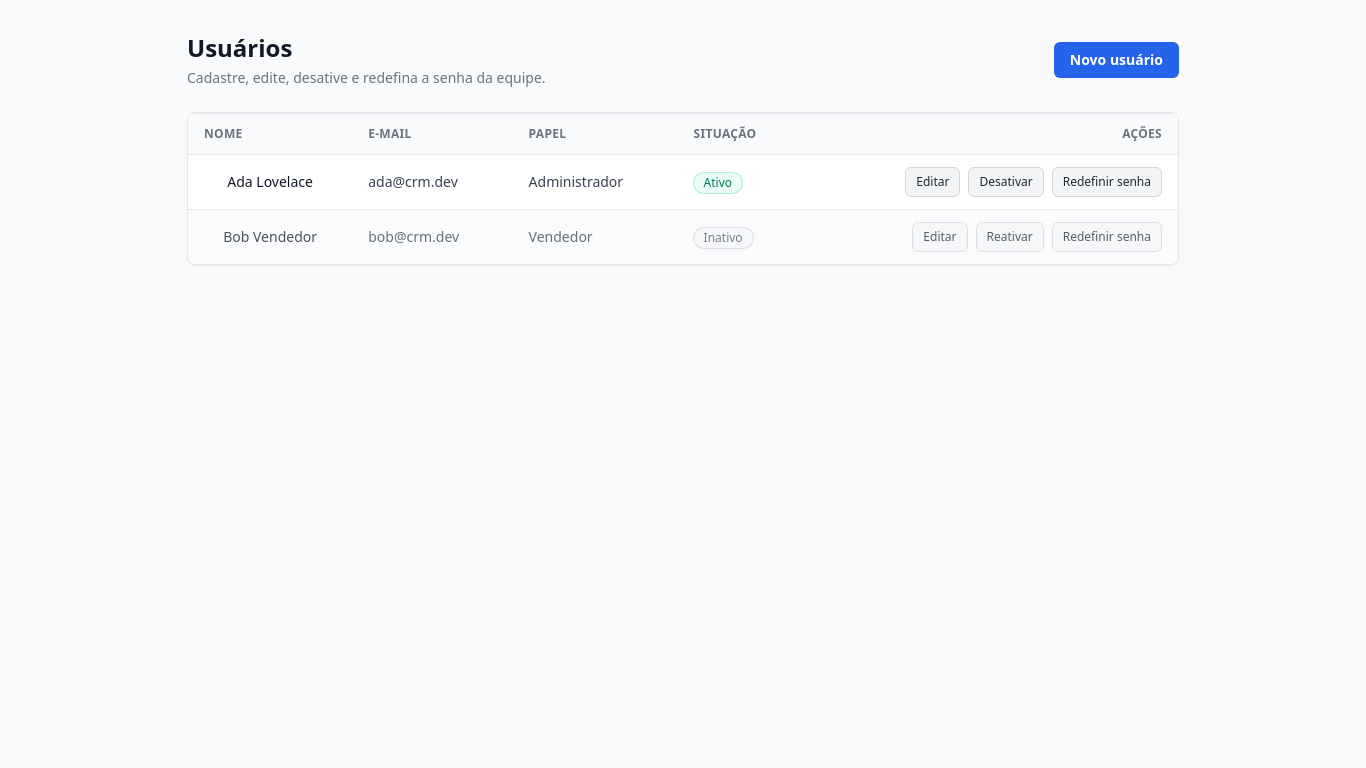
Test case: página de usuários › mostra EMAIL_IN_USE no formulário de criação
Click the button "Novo usuário": coordinates (1116, 60) [1054,42,1179,78]
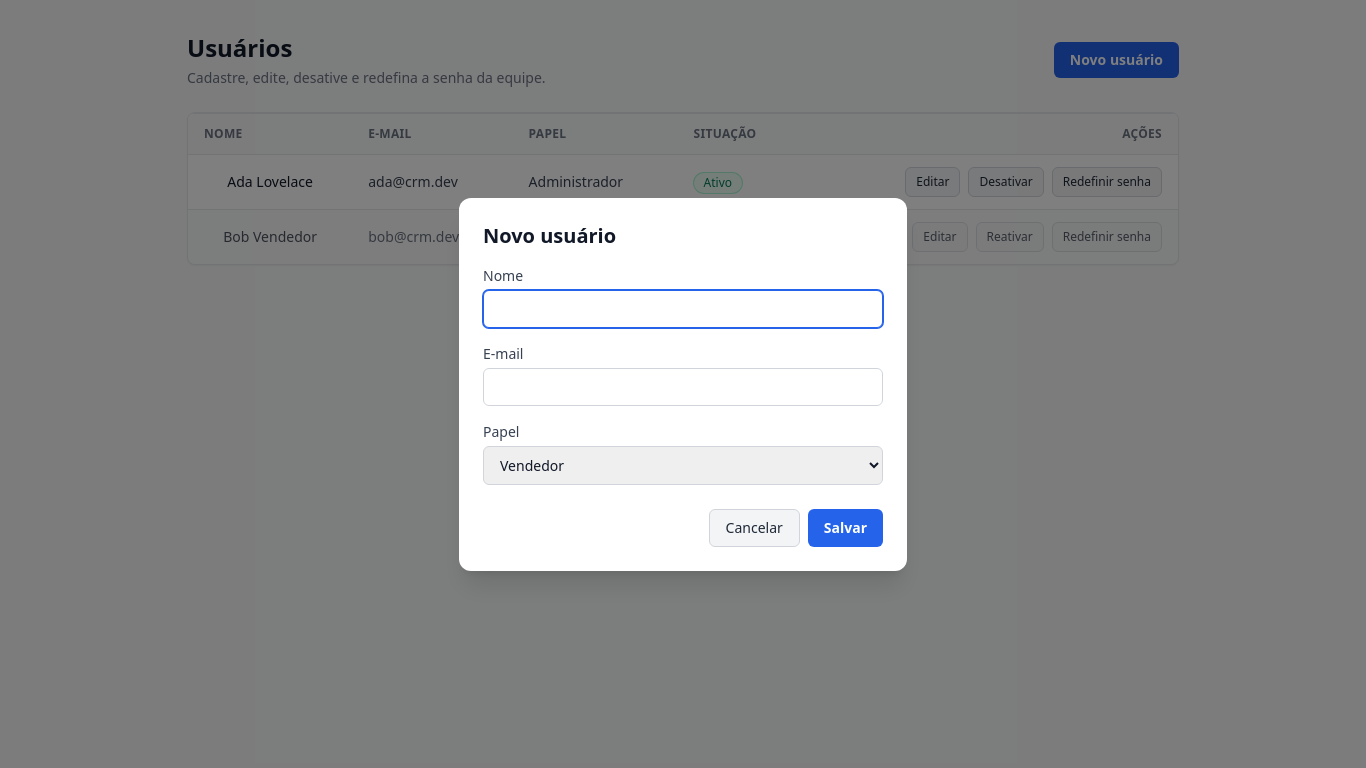
In the field labelled "Nome": coordinates (683, 308) [483,290,883,328], type "Carol"
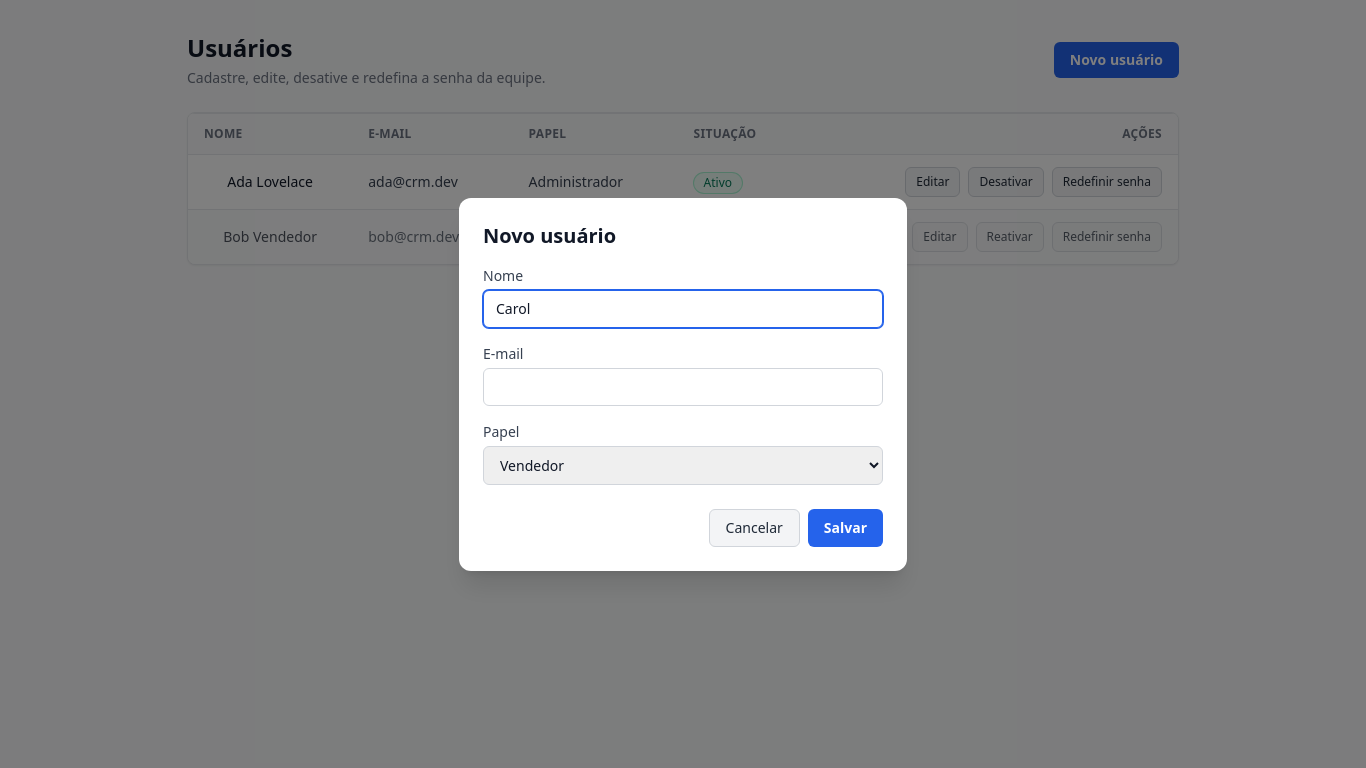
In the field labelled "E-mail": coordinates (683, 386) [483,368,883,406], type "ada@crm.dev"
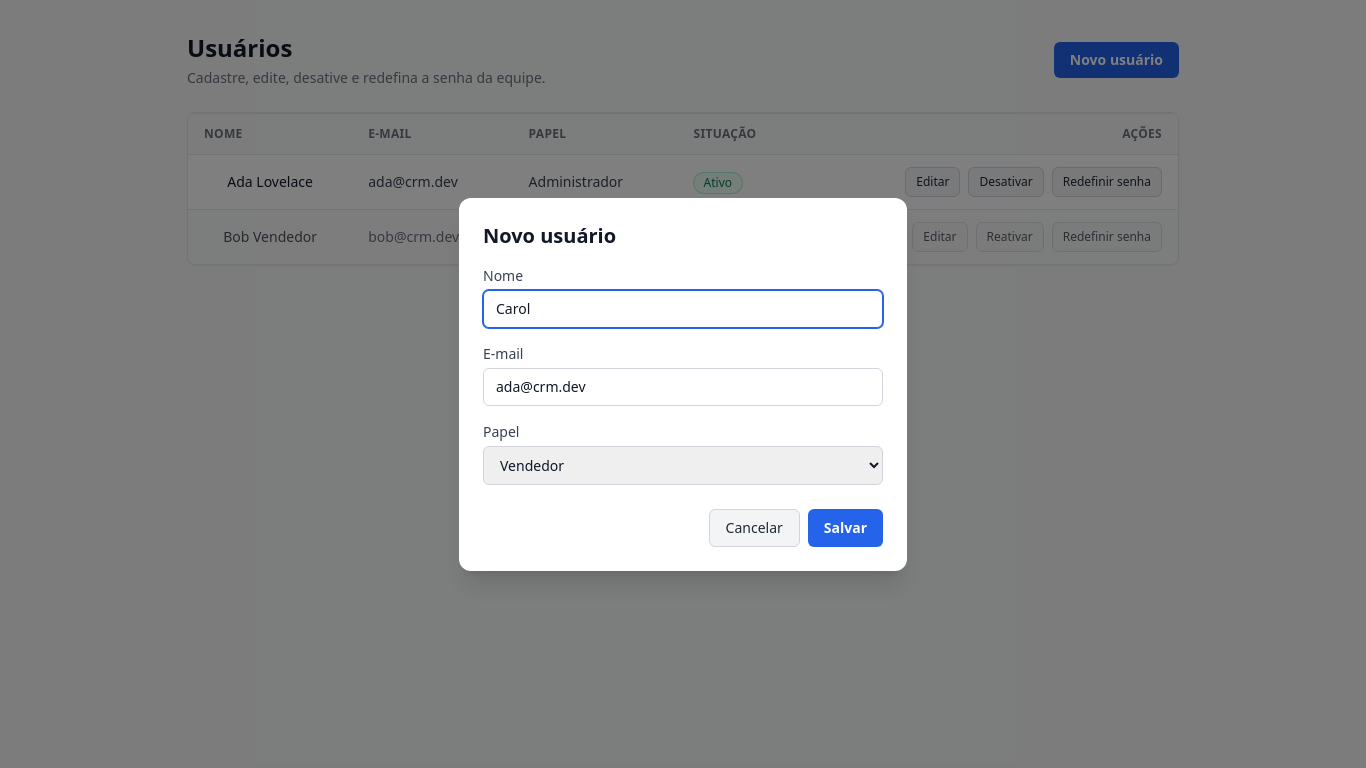
Click the button "Salvar": coordinates (845, 528) [808,508,883,546]
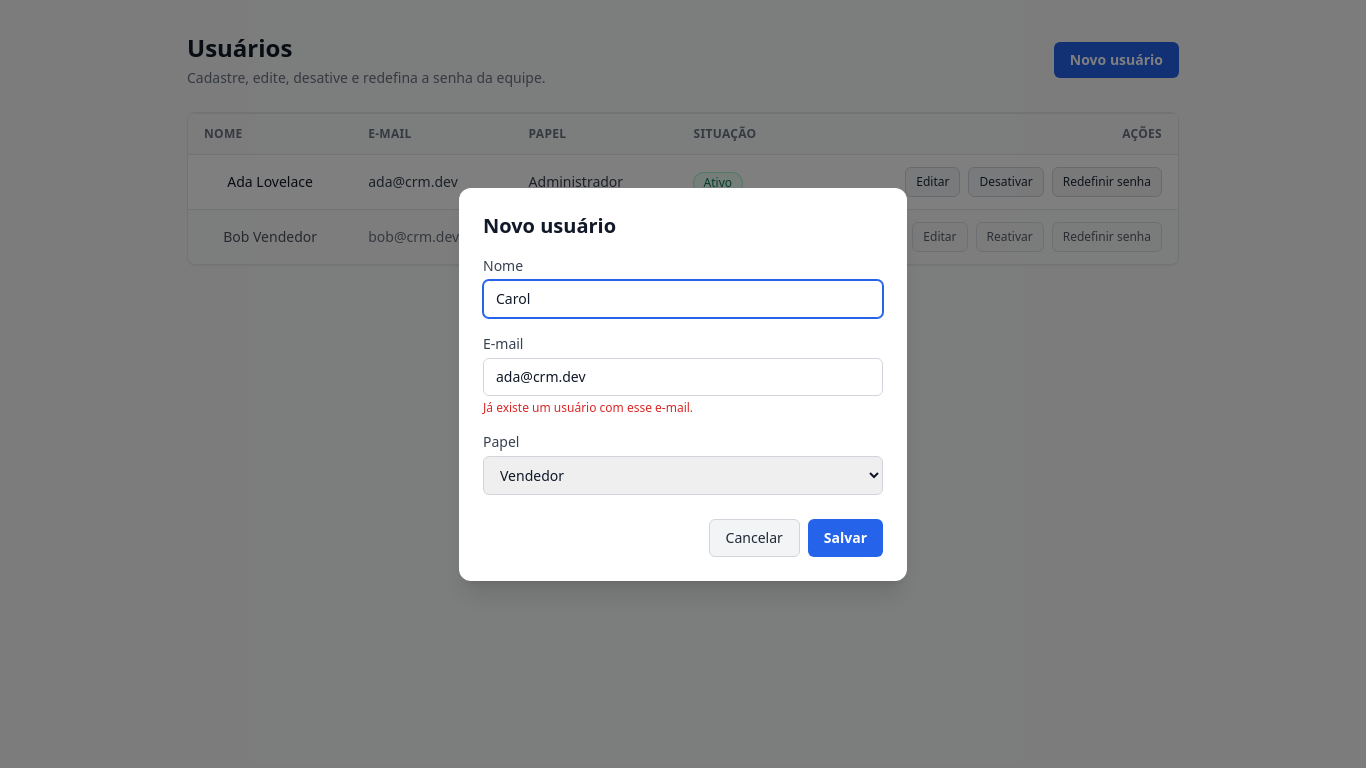
Check: the dialog is shown, box [459,188,907,580]
Check: the text "Já existe um usuário com esse e-mail." is shown, box [483,398,693,416]
